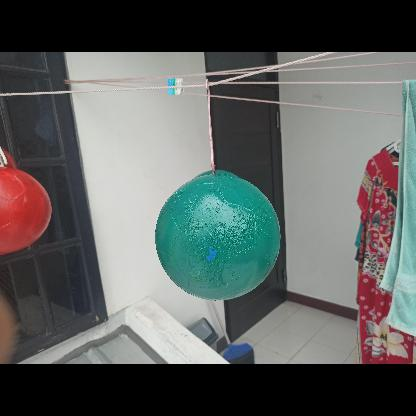green_ball: (151, 172, 279, 300)
